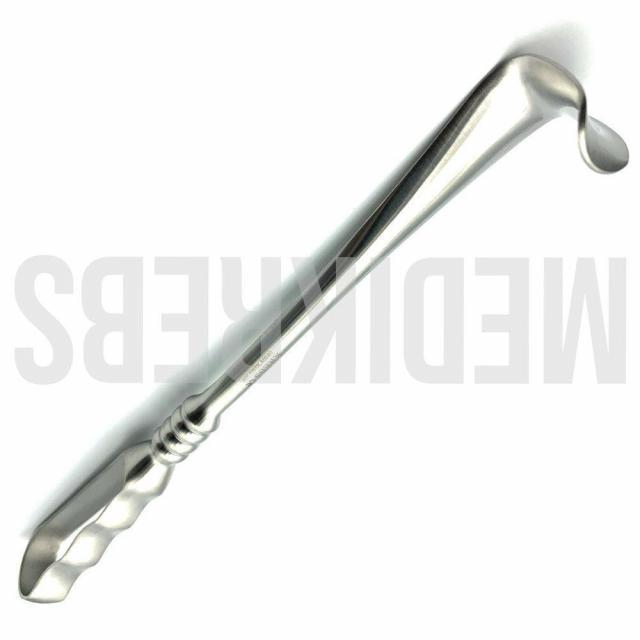Richardson: (17, 49, 633, 608)
